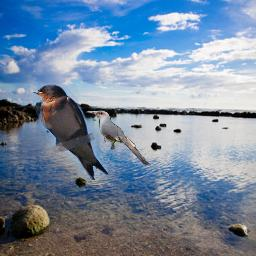Cuckoo: (86, 110, 151, 167)
Swallow: (33, 84, 108, 180)
